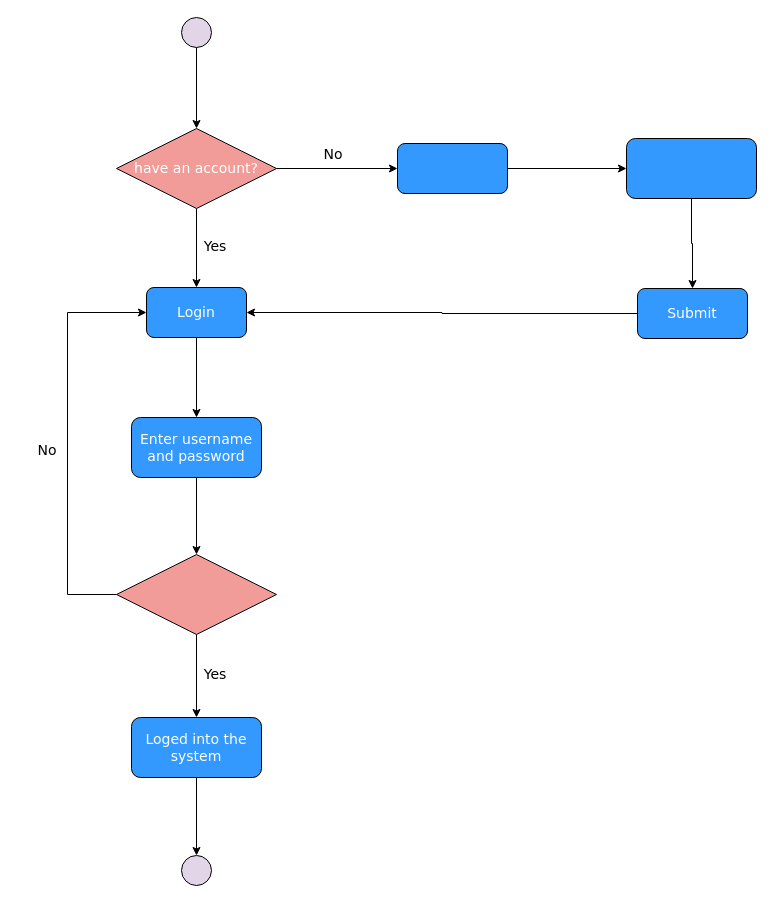
The diagram is 774 pixels wide and 903 high, and some of its shapes have lost their labels. The shapes that lost their labels are listed below. From the top down, each one's box as (x1, y1, x2, y2) in pixels, then its label:
(396, 142, 508, 194): Sign Up
(626, 138, 756, 198): Fill out the information
(116, 554, 276, 634): username and password valid?
